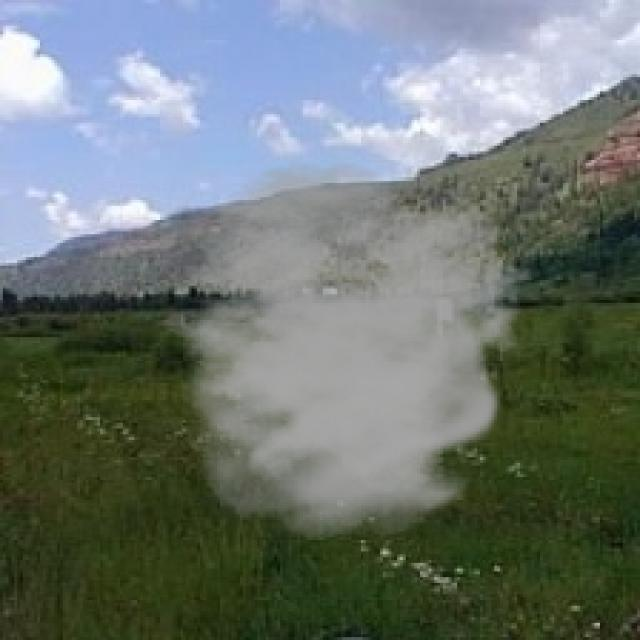Smoke: (137, 160, 534, 540)
